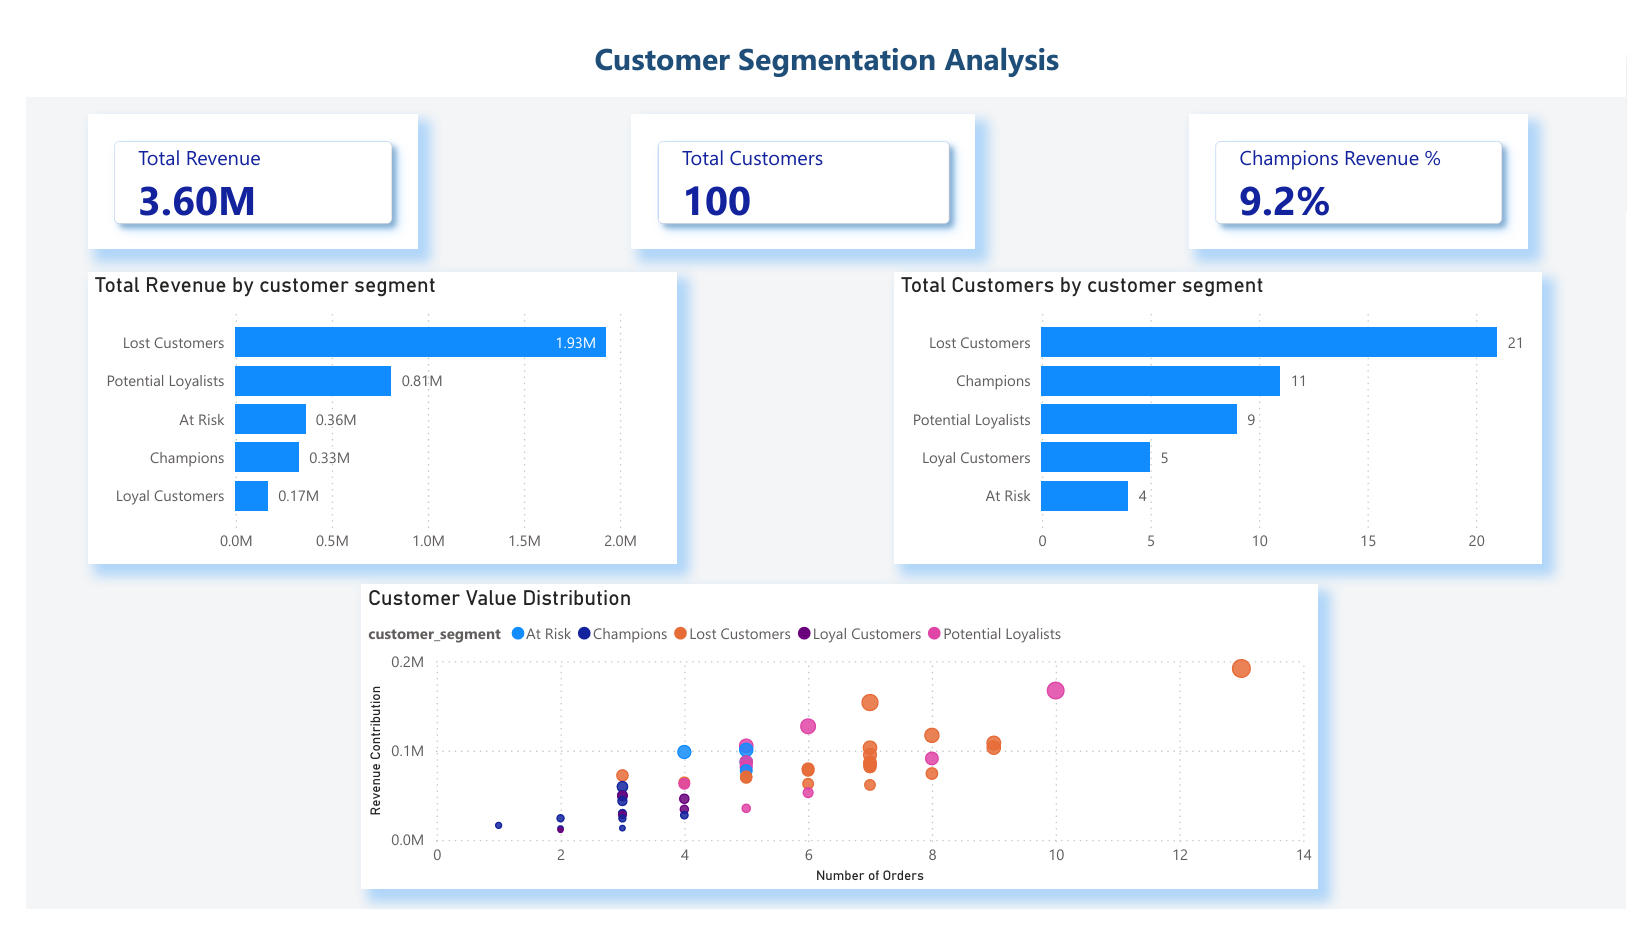

The dashboard page shown, as its layout file describes it:
{"tool":"powerbi","page":{"name":"Page 2","canvas":[1280,720],"ordinal":1},"visuals":[{"type":"textbox","box":[0,0,1280.3,70],"z":0},{"type":"cardVisual","fields":{"Data":["order_items.Total Revenue"]},"box":[49.4,83.7,263.5,108.4],"z":1},{"type":"cardVisual","fields":{"Data":["order_items.Total Customers"]},"box":[484.4,83.7,274.4,108.4],"z":2},{"type":"cardVisual","fields":{"Data":["orders.Champions Revenue %"]},"box":[930.4,83.7,270.3,108.4],"z":3},{"type":"clusteredBarChart","title":"Total Revenue by customer segment","fields":{"Category":["rfm_segment_view.customer_segment"],"Y":["order_items.Total Revenue"]},"box":[49.4,209.9,470.7,233.3],"z":4},{"type":"clusteredBarChart","title":"Total Customers by customer segment","fields":{"Category":["rfm_segment_view.customer_segment"],"Y":["order_items.Total Customers"]},"box":[694.3,209.9,517.3,233.3],"z":5},{"type":"scatterChart","title":"Customer Value Distribution","fields":{"X":["Sum(rfm_segment_view.frequency_orders)"],"Y":["Sum(rfm_segment_view.monetary_value)"],"Series":["rfm_segment_view.customer_segment"],"Size":["Sum(rfm_segment_view.monetary_value)"],"Category":["customers.customer_id"]},"box":[267.6,459.7,765.7,244.3],"z":6}]}

Visuals, with their boxes in screenshot pixels (x1, y1, x2, y2), scaled from the page's 1280x720 canvas onto the 1651x928 screenshot:
textbox: (0, 0, 1650, 90)
cardVisual - order_items.Total Revenue: (64, 108, 404, 248)
cardVisual - order_items.Total Customers: (625, 108, 979, 248)
cardVisual - orders.Champions Revenue %: (1200, 108, 1549, 248)
"Total Revenue by customer segment" clusteredBarChart: (64, 271, 671, 571)
"Total Customers by customer segment" clusteredBarChart: (896, 271, 1563, 571)
"Customer Value Distribution" scatterChart: (345, 593, 1333, 907)
